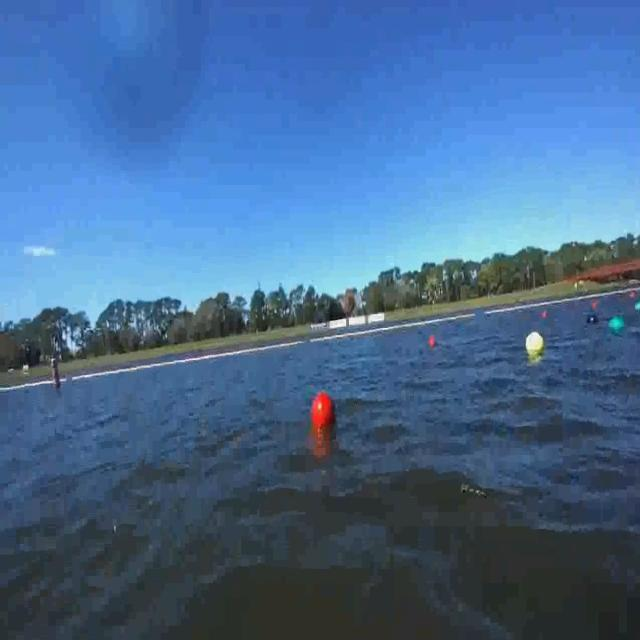black-buoy: (588, 314, 600, 326)
green-buoy: (612, 320, 626, 336), (635, 302, 640, 312)
red-buoy: (312, 393, 336, 431), (428, 336, 436, 349)
yellow-buoy: (528, 333, 547, 357)
